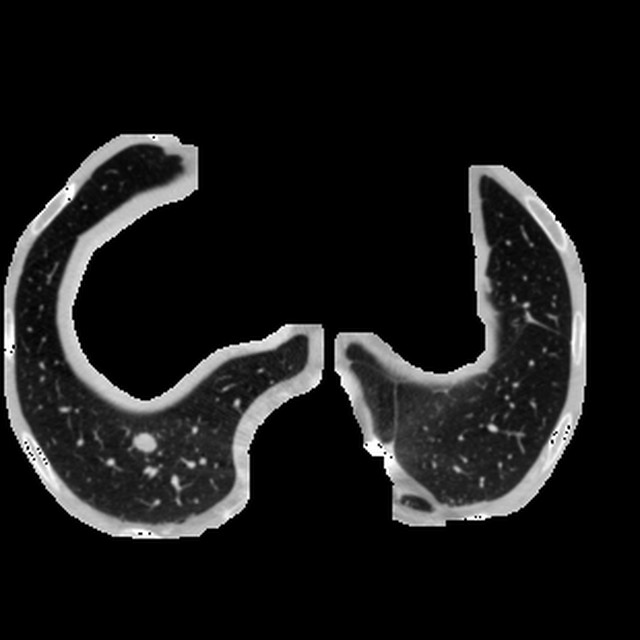PN: (134, 431, 155, 452)
